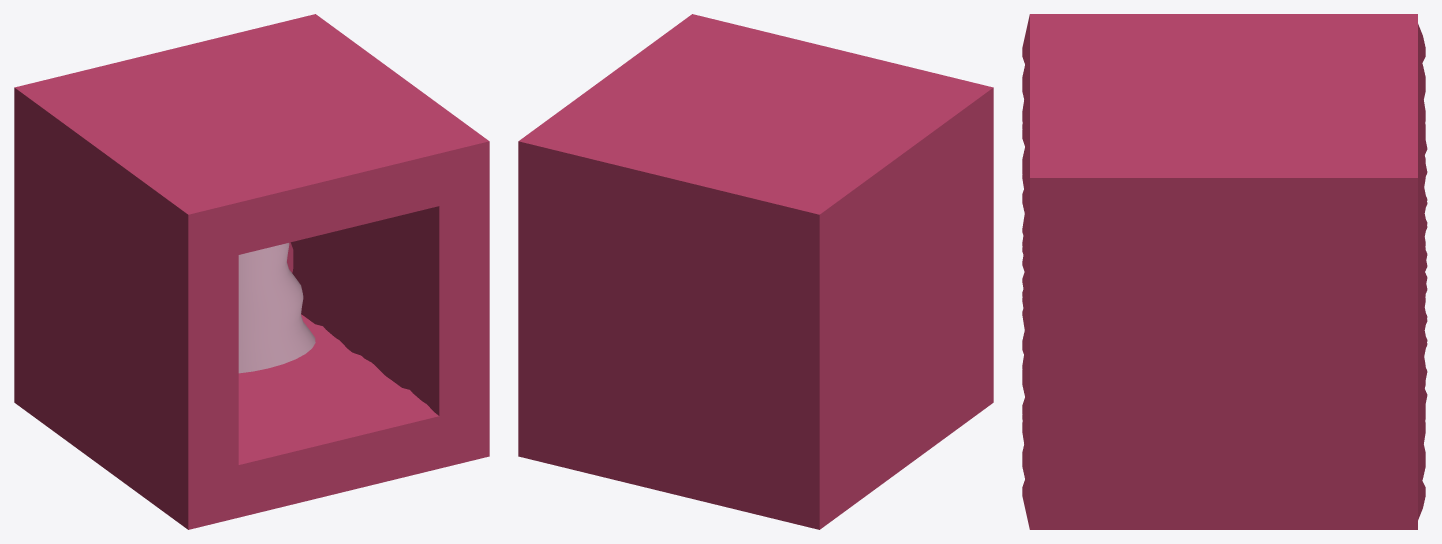
File: inflatable_wardrobe_3m.glb
The picture shows the model from 3 angles, left to right: view 1: azimuth 30°, elevation 25°; view 2: azimuth 150°, elevation 25°; view 3: azimuth 270°, elevation 25°; orthographic projection. The views are drawn at different scales.
Parts seen in each view (by area): view 1: InflatableWardrobe3m, HangingMaidSilkSet; view 2: InflatableWardrobe3m; view 3: InflatableWardrobe3m.
Part boxes in pixels (x1=…): InflatableWardrobe3m: x1=14, y1=14, x2=489, y2=529; HangingMaidSilkSet: x1=238, y1=243, x2=315, y2=373; InflatableWardrobe3m: x1=518, y1=14, x2=993, y2=529; InflatableWardrobe3m: x1=1022, y1=14, x2=1427, y2=529.
Bounding box in the file's own units: 3.14 × 3.14 × 3.13.
